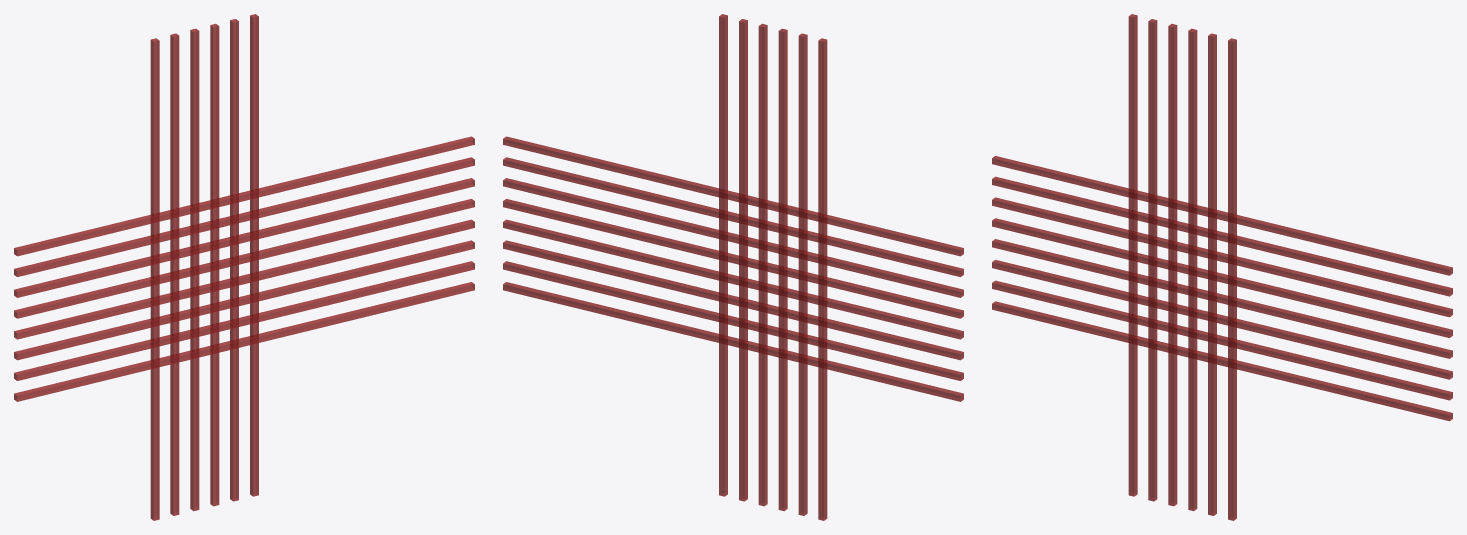
The model's file is Lvl_005.fbx.
The picture shows the model from 3 angles, left to right: view 1: azimuth 30°, elevation 25°; view 2: azimuth 150°, elevation 25°; view 3: azimuth 330°, elevation 25°; orthographic projection.
Visible parts, largest first — view 1: pCube10, pCube9, pCube8, pCube11, pCube18, pCube19, pCube15, pCube14, pCube17, pCube13, pCube20, pCube16 (+2 smaller); view 2: pCube10, pCube9, pCube8, pCube11, pCube18, pCube19, pCube14, pCube13, pCube17, pCube15, pCube16, pCube20 (+2 smaller); view 3: pCube11, pCube10, pCube8, pCube9, pCube16, pCube19, pCube15, pCube17, pCube18, pCube20, pCube13, pCube14 (+2 smaller).
Part boxes in pixels (left/top/right/bottom): pCube10: left=170, top=33, right=179, bottom=515; pCube9: left=190, top=28, right=199, bottom=511; pCube8: left=210, top=23, right=219, bottom=506; pCube11: left=150, top=38, right=159, bottom=520; pCube18: left=14, top=178, right=474, bottom=297; pCube19: left=14, top=157, right=474, bottom=276; pCube15: left=14, top=240, right=474, bottom=360; pCube14: left=14, top=261, right=474, bottom=380; pCube17: left=14, top=199, right=474, bottom=318; pCube13: left=14, top=282, right=474, bottom=401; pCube20: left=14, top=136, right=474, bottom=256; pCube16: left=14, top=219, right=474, bottom=339; pCube10: left=798, top=33, right=807, bottom=515; pCube9: left=778, top=28, right=787, bottom=511; pCube8: left=758, top=23, right=767, bottom=506; pCube11: left=818, top=38, right=827, bottom=520; pCube18: left=503, top=178, right=963, bottom=297; pCube19: left=503, top=157, right=963, bottom=276; pCube14: left=503, top=261, right=963, bottom=380; pCube13: left=503, top=282, right=963, bottom=401; pCube17: left=503, top=199, right=963, bottom=318; pCube15: left=503, top=240, right=963, bottom=360; pCube16: left=503, top=219, right=963, bottom=339; pCube20: left=503, top=136, right=963, bottom=256; pCube11: left=1128, top=14, right=1137, bottom=496; pCube10: left=1148, top=19, right=1157, bottom=501; pCube8: left=1188, top=28, right=1197, bottom=511; pCube9: left=1168, top=23, right=1177, bottom=506; pCube16: left=992, top=239, right=1452, bottom=358; pCube19: left=992, top=176, right=1452, bottom=296; pCube15: left=992, top=259, right=1452, bottom=379; pCube17: left=992, top=218, right=1452, bottom=337; pCube18: left=992, top=197, right=1452, bottom=317; pCube20: left=992, top=156, right=1452, bottom=275; pCube13: left=992, top=301, right=1452, bottom=421; pCube14: left=992, top=280, right=1452, bottom=400.
Bounding box in the file's own units: 2000 × 2000 × 25.
